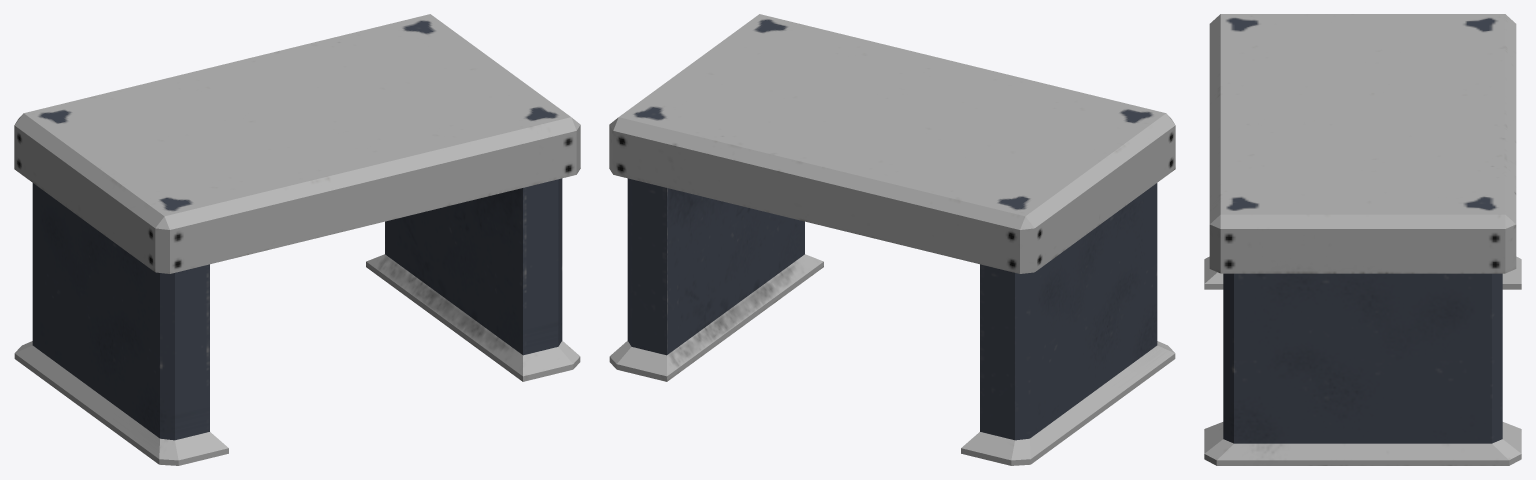
The model's file is Table2.fbx.
3 views of the same model, side by side, from view 1: azimuth 30°, elevation 25°; view 2: azimuth 150°, elevation 25°; view 3: azimuth 270°, elevation 25° (orthographic).
Visible parts, largest first — view 1: sci_fi_table2; view 2: sci_fi_table2; view 3: sci_fi_table2.
Part boxes in pixels (x1=…): sci_fi_table2: x1=14, y1=14, x2=580, y2=465; sci_fi_table2: x1=609, y1=14, x2=1175, y2=465; sci_fi_table2: x1=1204, y1=14, x2=1521, y2=465.
Size of the model in its own units: 202 by 111 by 129.
Materials: 1 (1 with a texture image).
